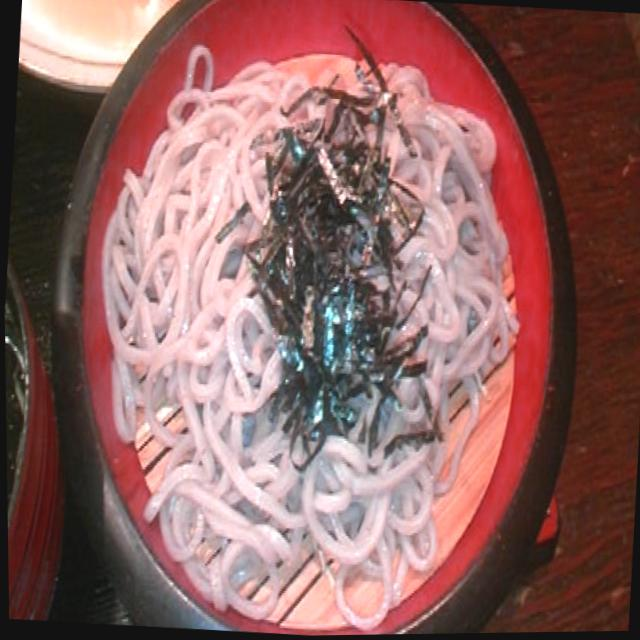面条主食: (83, 44, 526, 618)
